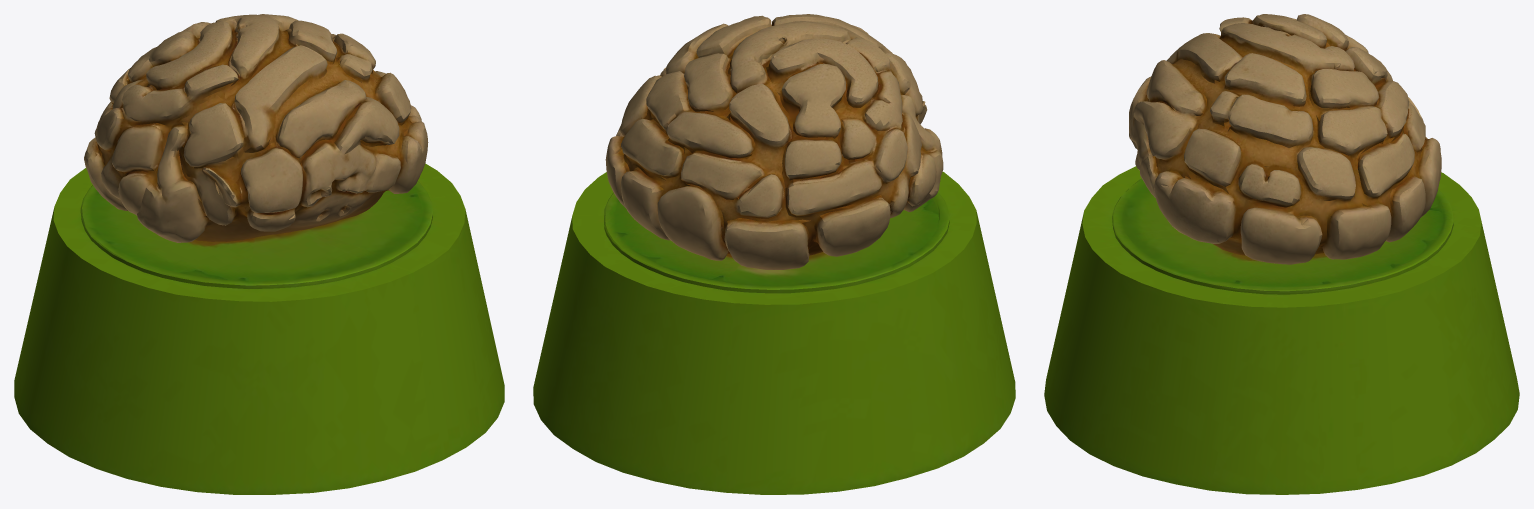
The model's file is concha-pan.glb.
3 views of the same model, side by side, from view 1: azimuth 30°, elevation 25°; view 2: azimuth 150°, elevation 25°; view 3: azimuth 270°, elevation 25° (orthographic). The views are drawn at different scales.
Visible parts, largest first — view 1: gen_5411c3acfe084655abb9a1489db92019_mesh; view 2: gen_5411c3acfe084655abb9a1489db92019_mesh; view 3: gen_5411c3acfe084655abb9a1489db92019_mesh.
Part boxes in pixels (x1,y1,x2,y2): gen_5411c3acfe084655abb9a1489db92019_mesh: (14,14,504,494); gen_5411c3acfe084655abb9a1489db92019_mesh: (533,14,1015,494); gen_5411c3acfe084655abb9a1489db92019_mesh: (1044,14,1519,494).
Size of the model in its own units: 0.05 by 0.0416 by 0.05.
1 material, 1 textured.
